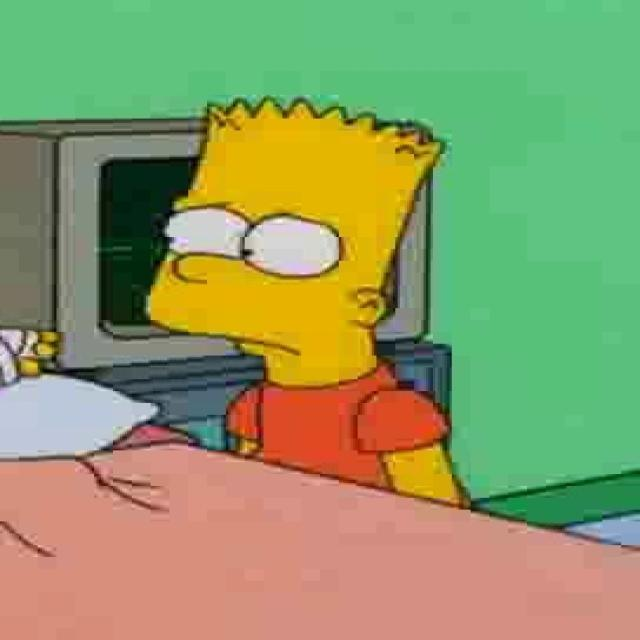Bart Simpson: (143, 95, 444, 388)
